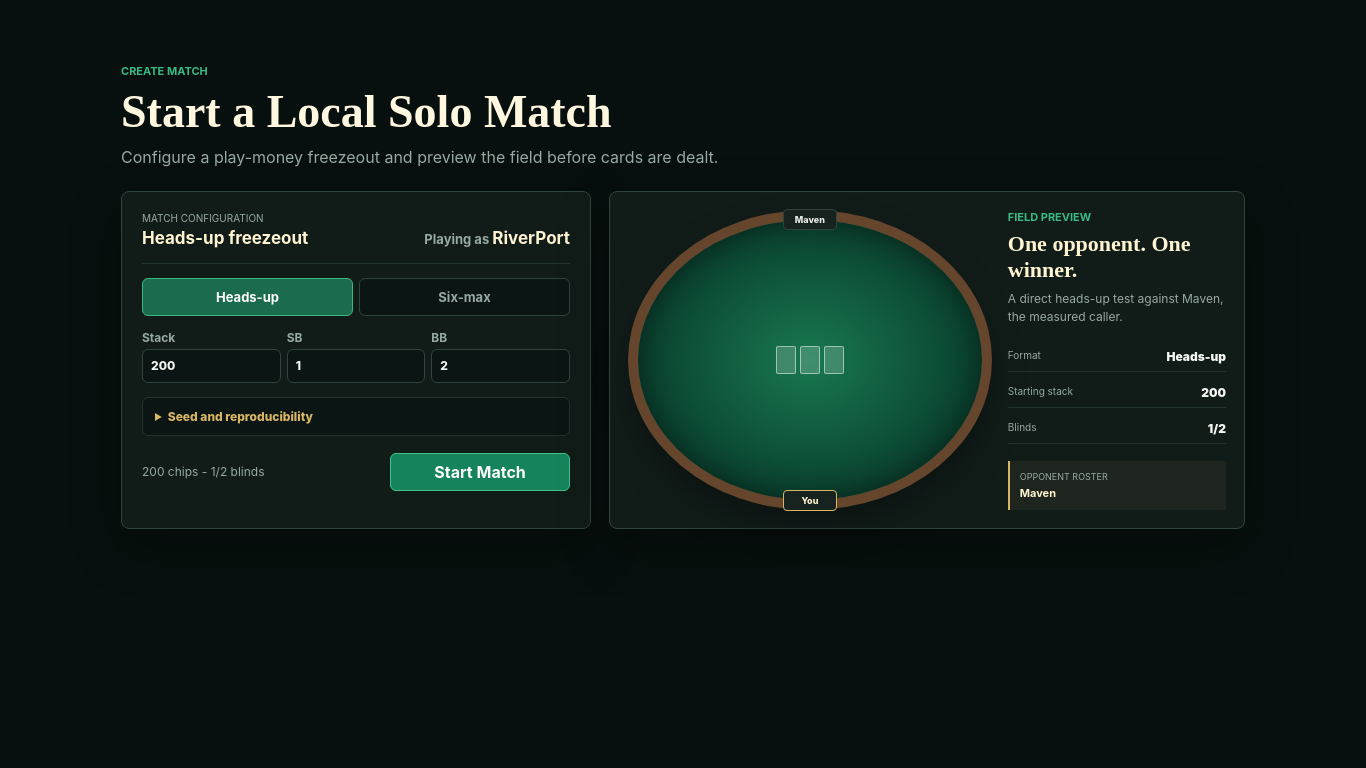
PokerTable › uses the signed-in profile name throughout a newly created table
Expected: the element named "Current player identity" reads "Playing as RiverPort", [424,228,570,248]
What coordinates should you click on to do the following:
click the button "Start Match"
I would click on:
 (480, 472)
Its box is [390,453,570,491].
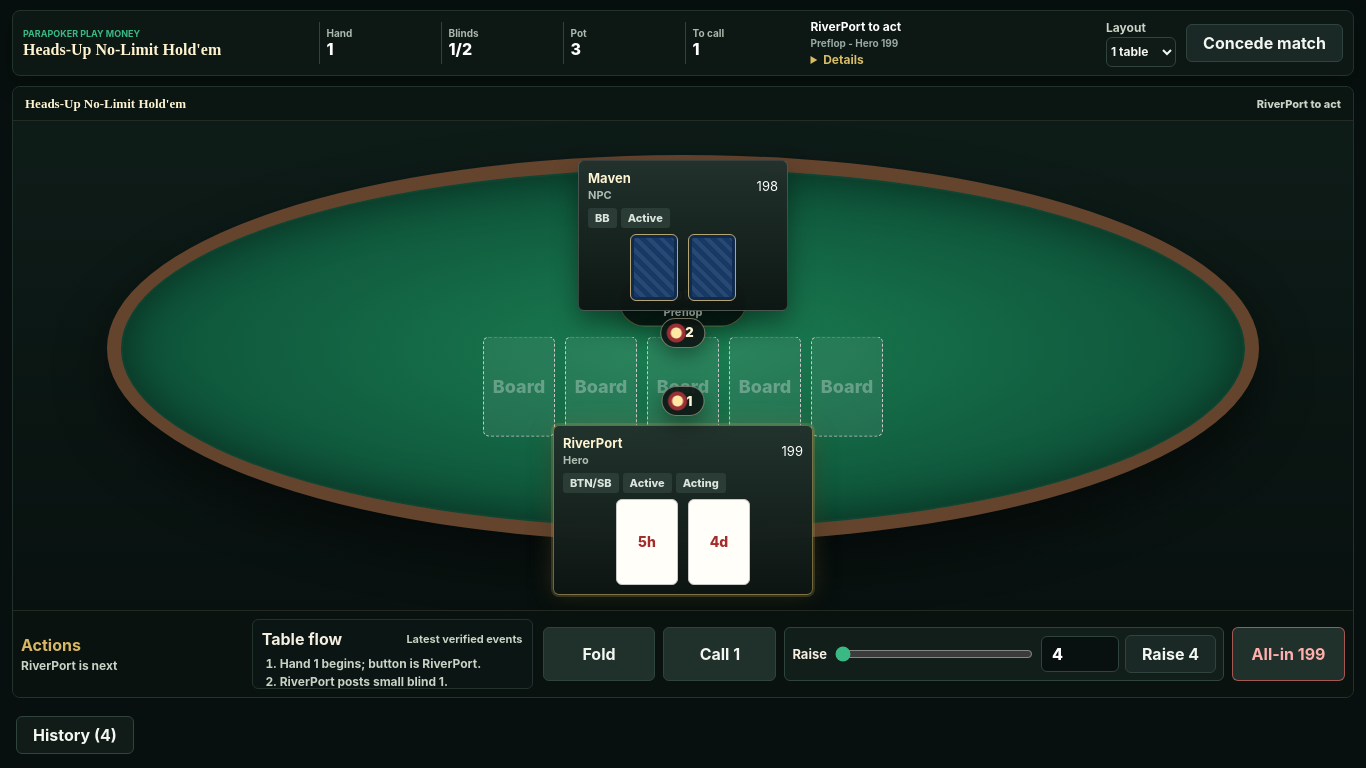
Now the element named "Hero seat" shows "RiverPort", box [563,435,622,451]
What coordinates should you click on to do the following:
click the button "Call 1"
I would click on:
 (720, 654)
Its box is [664,627,776,681].
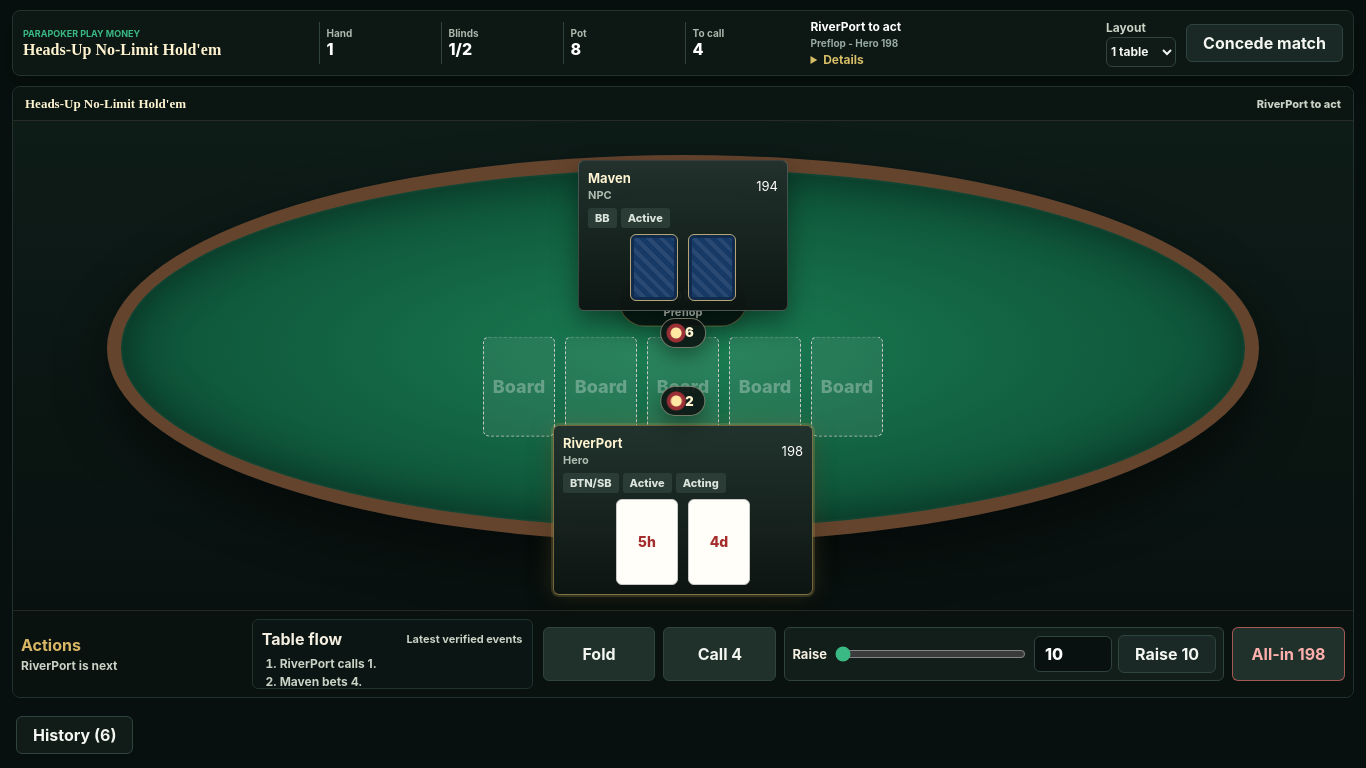
Now the element labelled "Table flow" shows "RiverPort calls 1", box [280,656,377,671]
